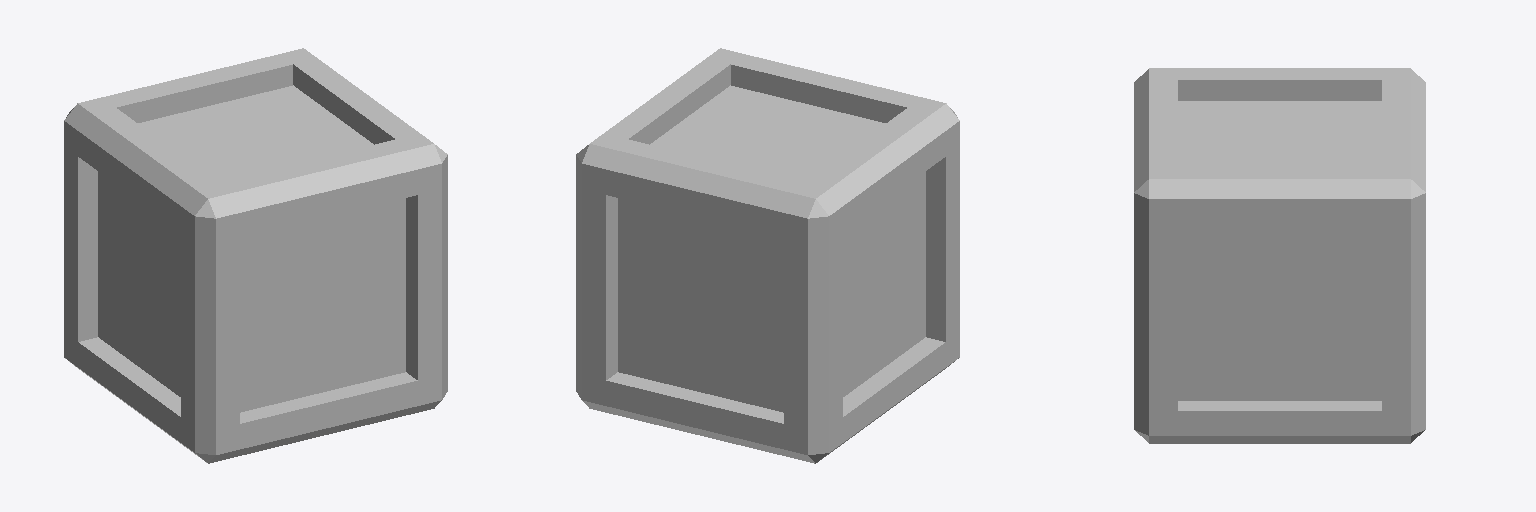
The model's file is crate.obj.
3 views of the same model, side by side, from view 1: azimuth 30°, elevation 25°; view 2: azimuth 150°, elevation 25°; view 3: azimuth 270°, elevation 25° (orthographic).
Parts seen in each view (by area): view 1: Cube; view 2: Cube; view 3: Cube.
Part boxes in pixels (x1,y1,x2,y2): Cube: (64, 48, 447, 463); Cube: (576, 48, 959, 463); Cube: (1134, 68, 1425, 443).
Size of the model in its own units: 2 by 2 by 2.